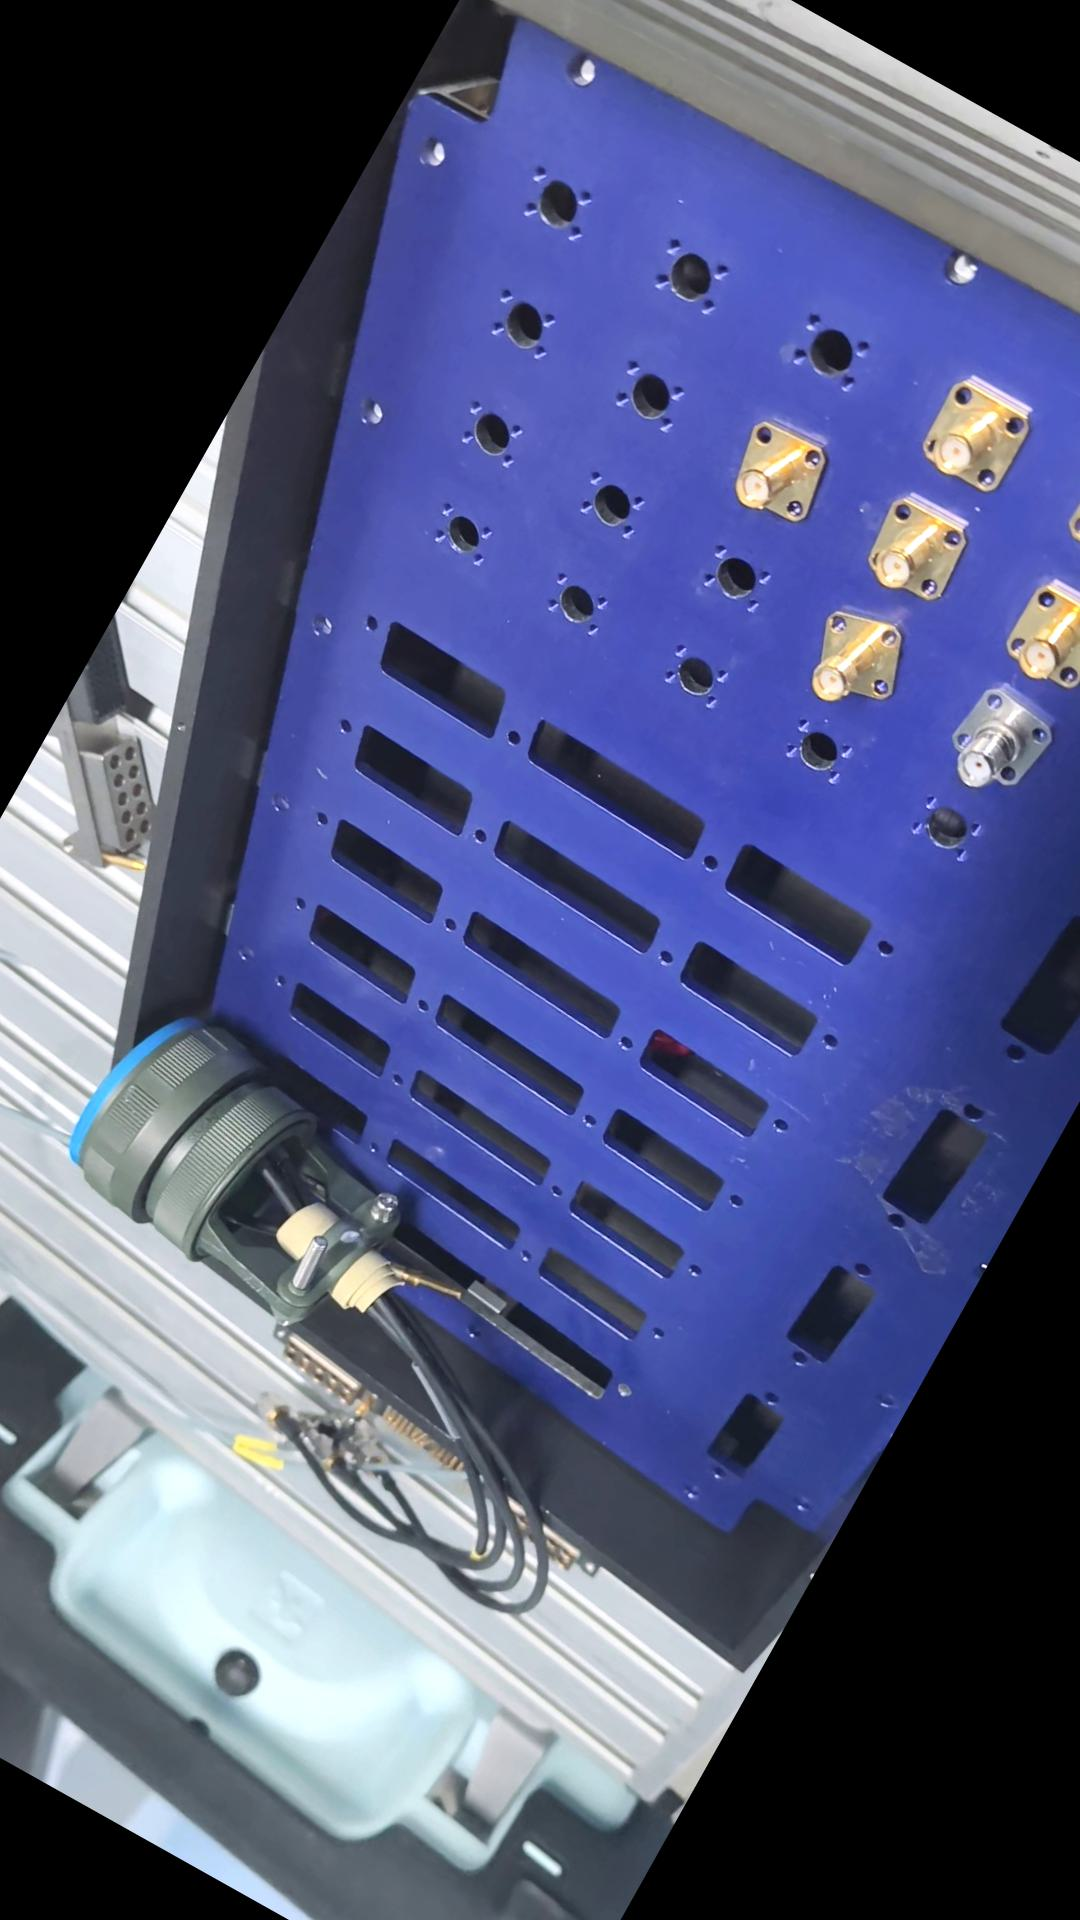SMA: (931, 673, 1067, 810), (907, 364, 1040, 501), (786, 587, 915, 723), (719, 407, 837, 531), (855, 487, 968, 607), (996, 571, 1079, 694), (1048, 436, 1079, 585)
